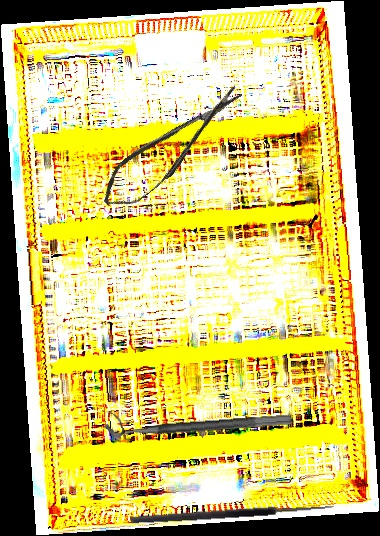Fixation Ring: (103, 398, 292, 439)
Hook Surgical: (129, 491, 335, 526)
Micro Scissor: (91, 77, 255, 219)
